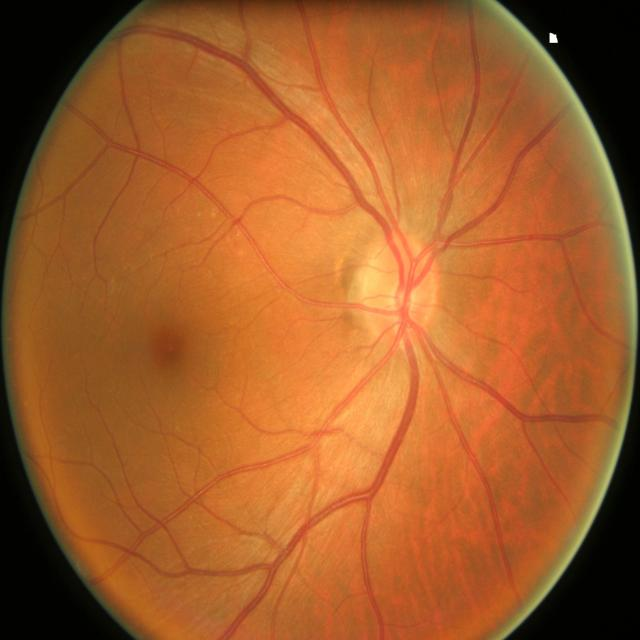OC: (390, 281, 418, 315)
OD: (363, 238, 441, 341)
